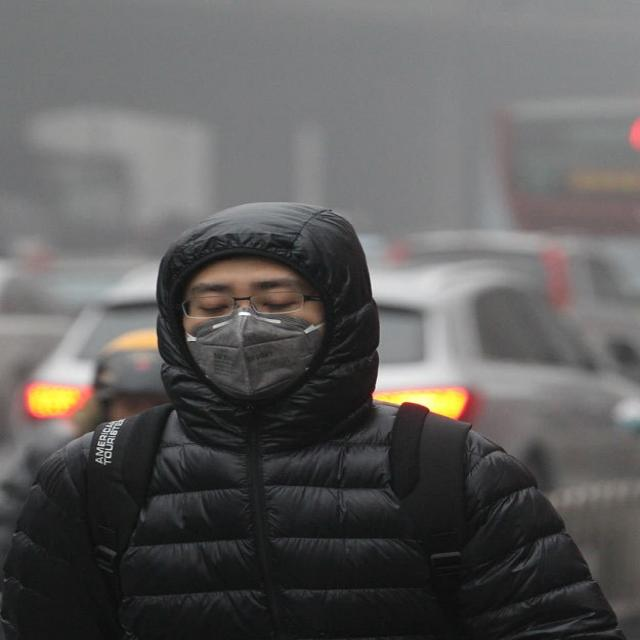mask: (182, 248, 324, 402)
